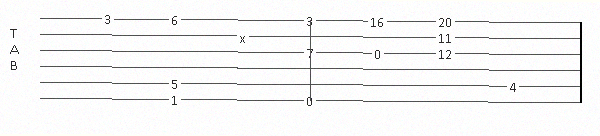0: (306, 94, 317, 107), (374, 46, 385, 59)
1: (171, 94, 182, 107)
11: (438, 30, 456, 43)
12: (438, 46, 456, 59)
16: (370, 14, 388, 27)
20: (438, 14, 456, 27)
3: (104, 14, 115, 27), (306, 14, 317, 27)
4: (509, 78, 520, 91)
5: (171, 78, 182, 91)
6: (171, 14, 182, 27)
7: (306, 46, 317, 59)
x: (239, 31, 250, 42)
